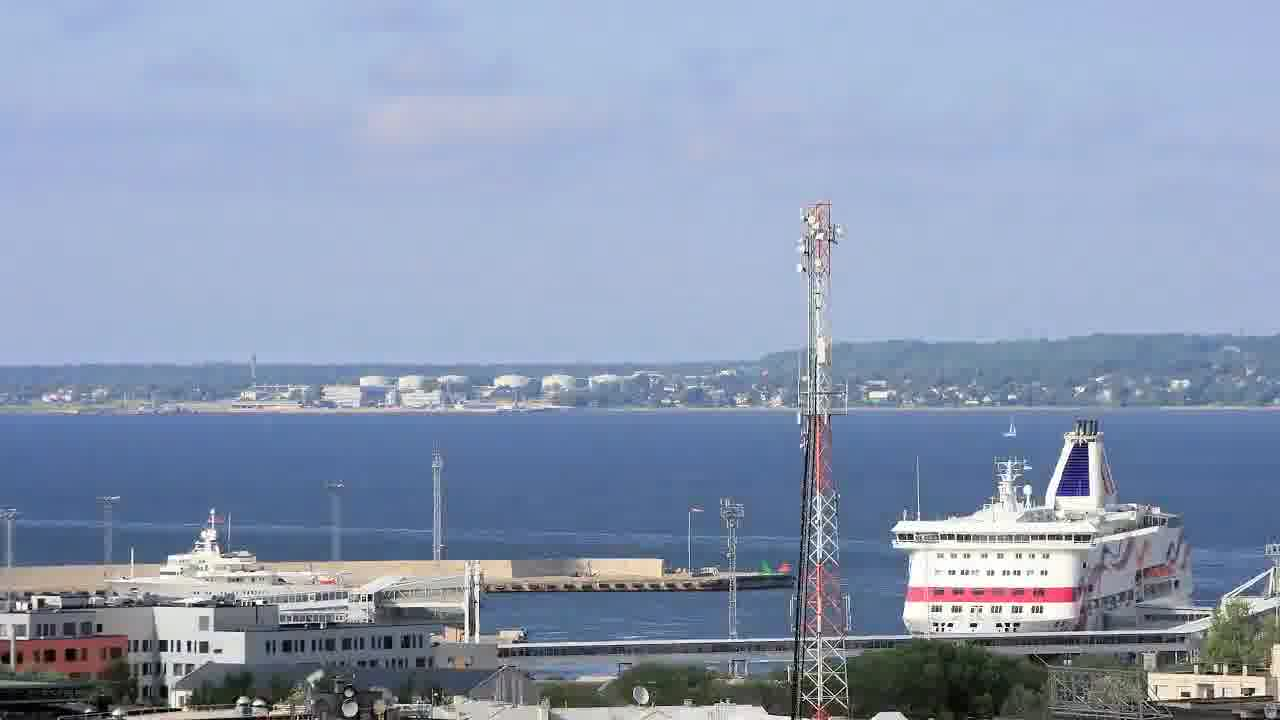type-2: (991, 397, 1027, 450)
type-3: (868, 415, 1225, 638), (84, 511, 353, 609)
